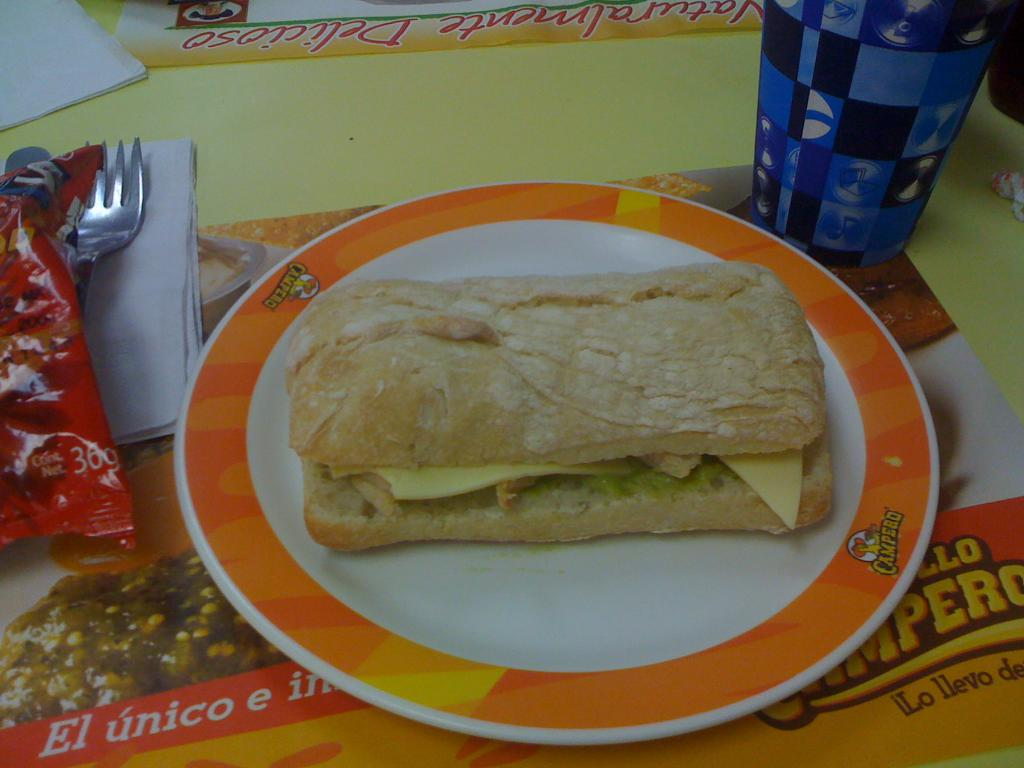sandwich: (285, 261, 837, 556)
